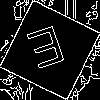E: (25, 25, 71, 79)
